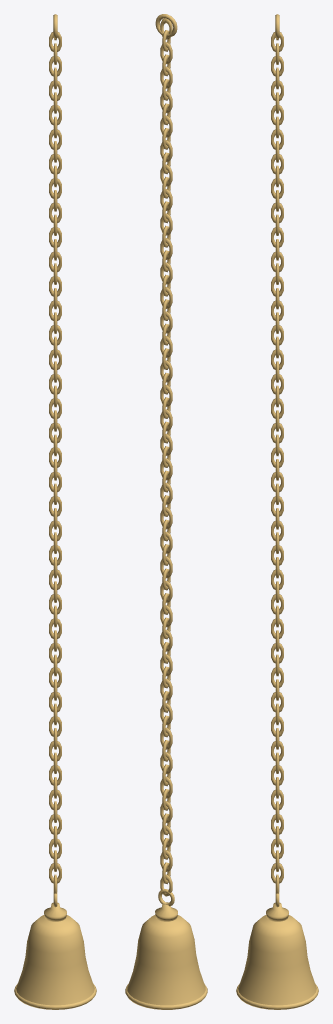
Rendered from ghanta.glb.
3 renders of one model, left to right at view 1: azimuth 90°, elevation 25°; view 2: azimuth 150°, elevation 25°; view 3: azimuth 270°, elevation 25°, orthographic.
Visible parts, largest first — view 1: ghanta; view 2: ghanta; view 3: ghanta.
Part boxes in pixels (x1,y1,x2,y2): ghanta: (14, 14, 96, 1009); ghanta: (125, 14, 207, 1009); ghanta: (236, 14, 318, 1009).
Size of the model in its own units: 0.242 by 3.15 by 0.242.
